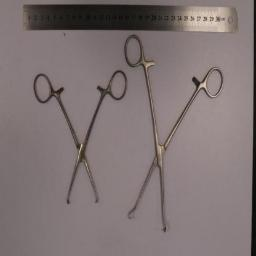Allis Tissue Forceps: (32, 68, 128, 206)
